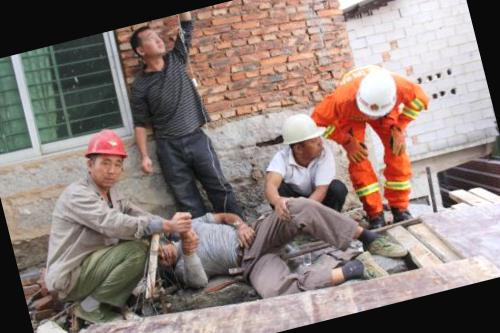no_helmet: (123, 19, 171, 66), (144, 232, 186, 272)
